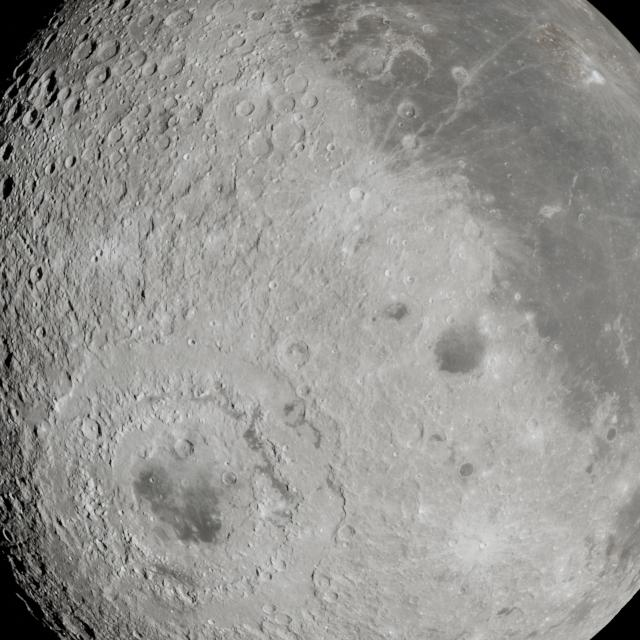crater: (88, 63, 114, 91), (69, 37, 99, 61), (165, 10, 197, 29), (79, 417, 106, 438), (98, 38, 119, 62), (0, 175, 18, 201), (20, 108, 39, 130), (63, 154, 85, 173), (236, 98, 256, 118), (398, 104, 418, 123), (25, 264, 46, 282), (7, 102, 24, 122), (142, 60, 160, 78), (139, 14, 158, 28), (2, 144, 15, 164), (41, 160, 57, 176), (113, 0, 131, 14), (78, 16, 94, 26), (94, 17, 107, 24)
